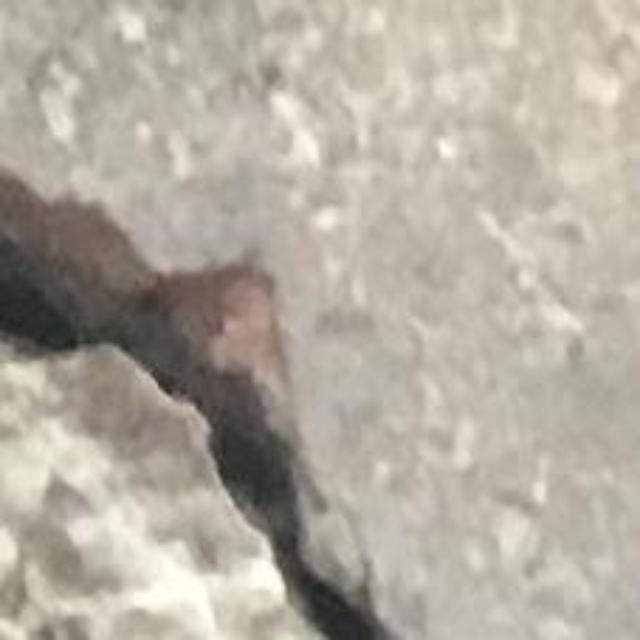crack: (0, 170, 391, 639)
